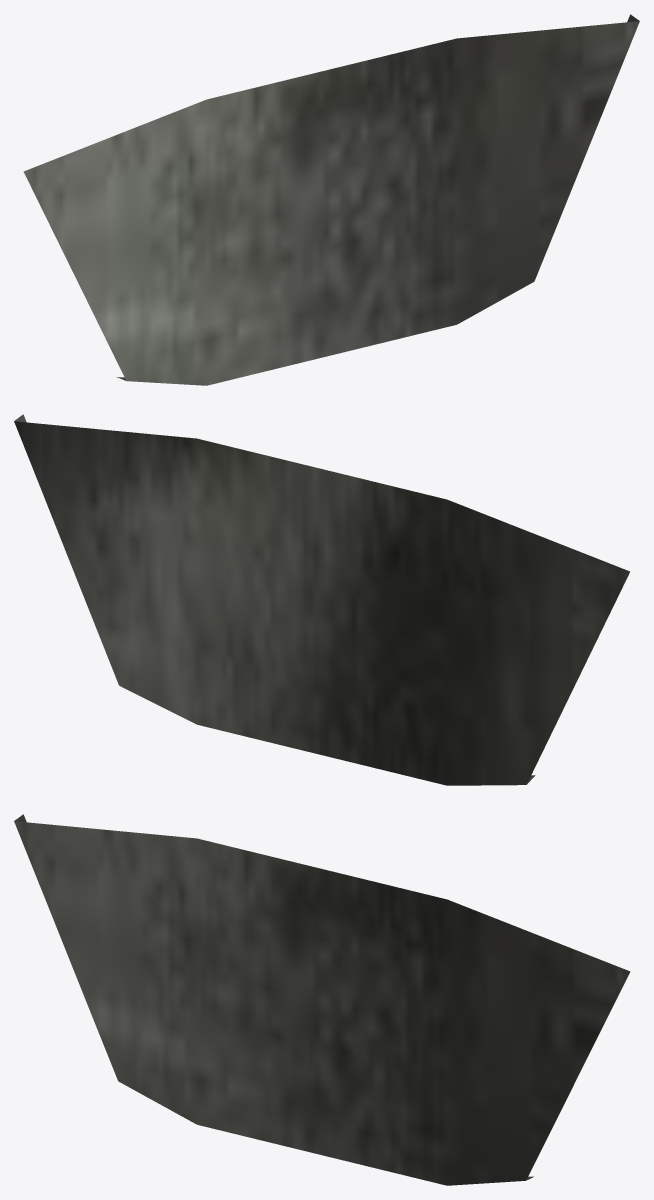
3 renders of one model, top to bottom at view 1: azimuth 30°, elevation 25°; view 2: azimuth 150°, elevation 25°; view 3: azimuth 330°, elevation 25°, orthographic.
Visible parts, largest first — view 1: Window; view 2: Window; view 3: Window.
Boxes of the visible parts, x1=… form: Window: x1=23, y1=14, x2=639, y2=385; Window: x1=14, y1=414, x2=629, y2=785; Window: x1=14, y1=814, x2=630, y2=1185.
Size of the model in its own units: 23.42 by 10.39 by 0.6798.
Materials: 1 (1 with a texture image).
